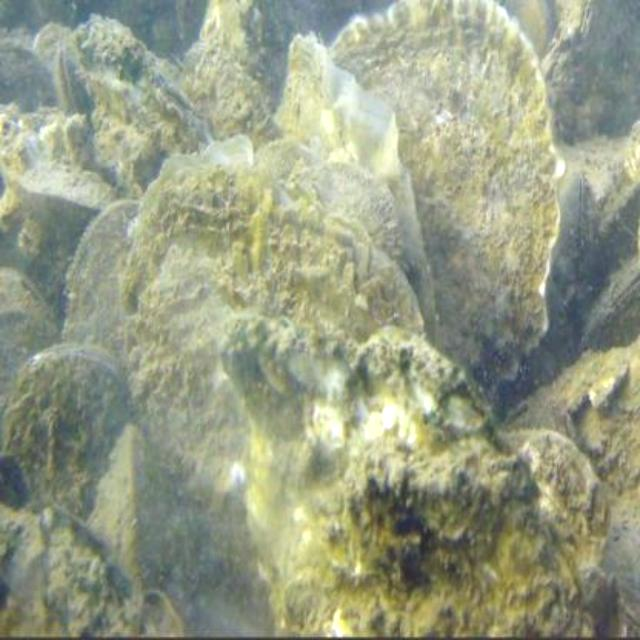Oyster-Closed: (124, 135, 434, 640), (233, 323, 583, 640), (328, 7, 565, 394), (273, 42, 434, 341), (80, 20, 217, 193), (0, 343, 129, 514), (505, 433, 609, 577), (62, 201, 142, 352), (0, 269, 57, 415)
